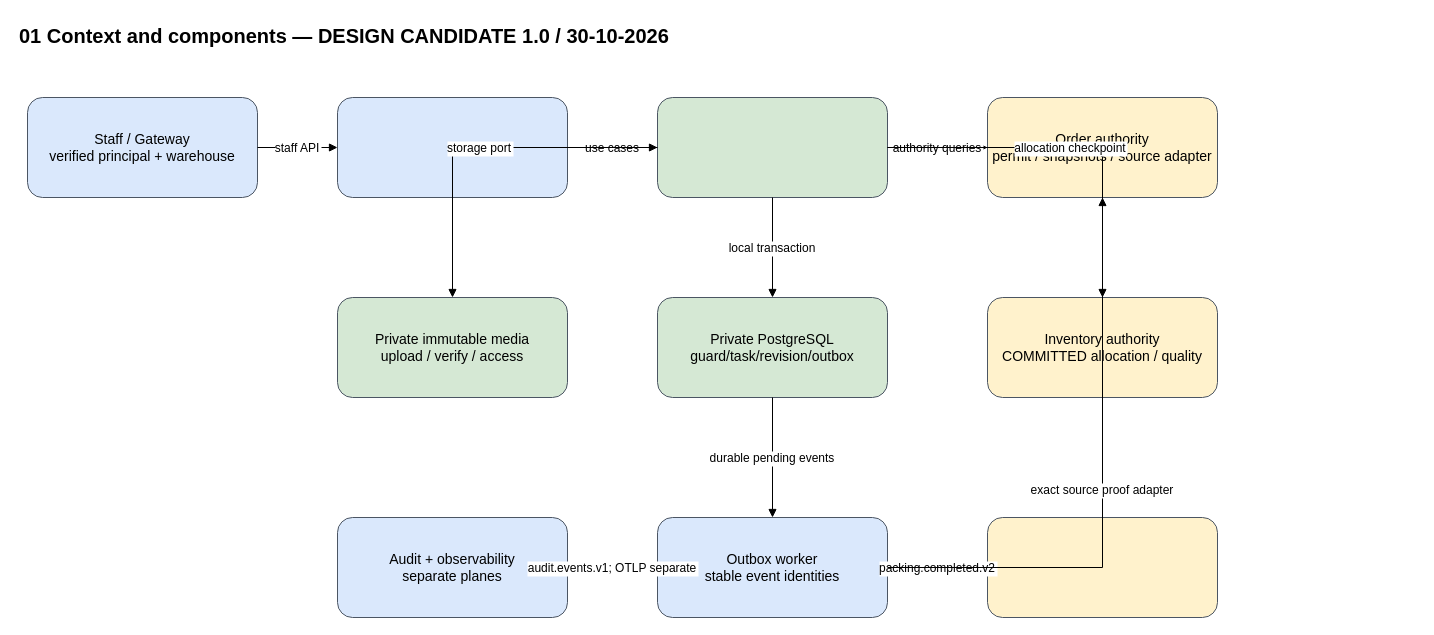
This 1434x635 diagram has some shape labels left out. The box of each missing label's shape, as (x1, y1, x2, y2) in pixels:
Admission / Packing / Parcel Application + domain: (656, 96, 888, 198)
REST 8002 / gRPC 9002 proposed listeners: (336, 96, 568, 198)
Shipping v2 consumer one shipment/package: (986, 516, 1218, 618)
